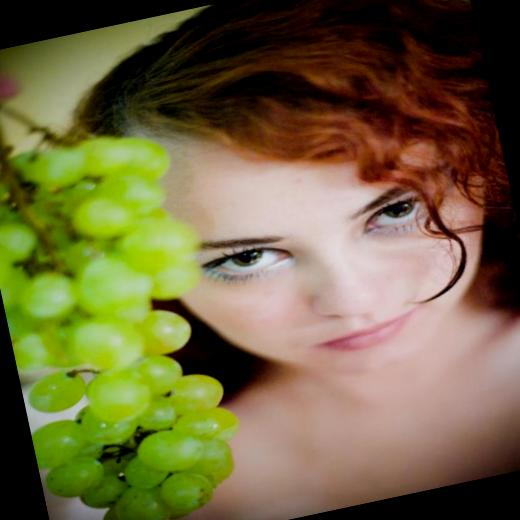Orange: (0, 123, 253, 520)
